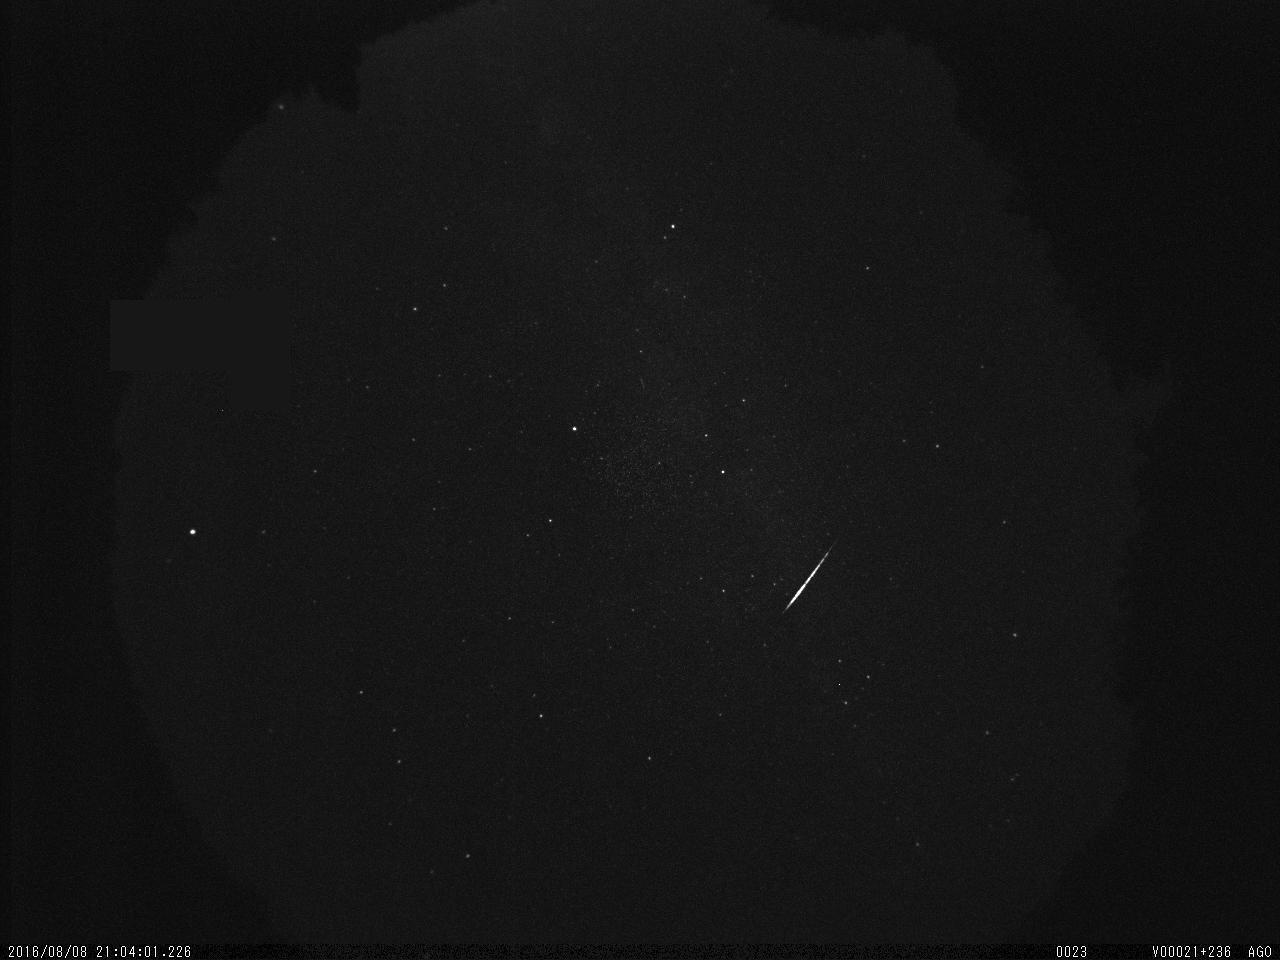meteor: (774, 532, 851, 625)
